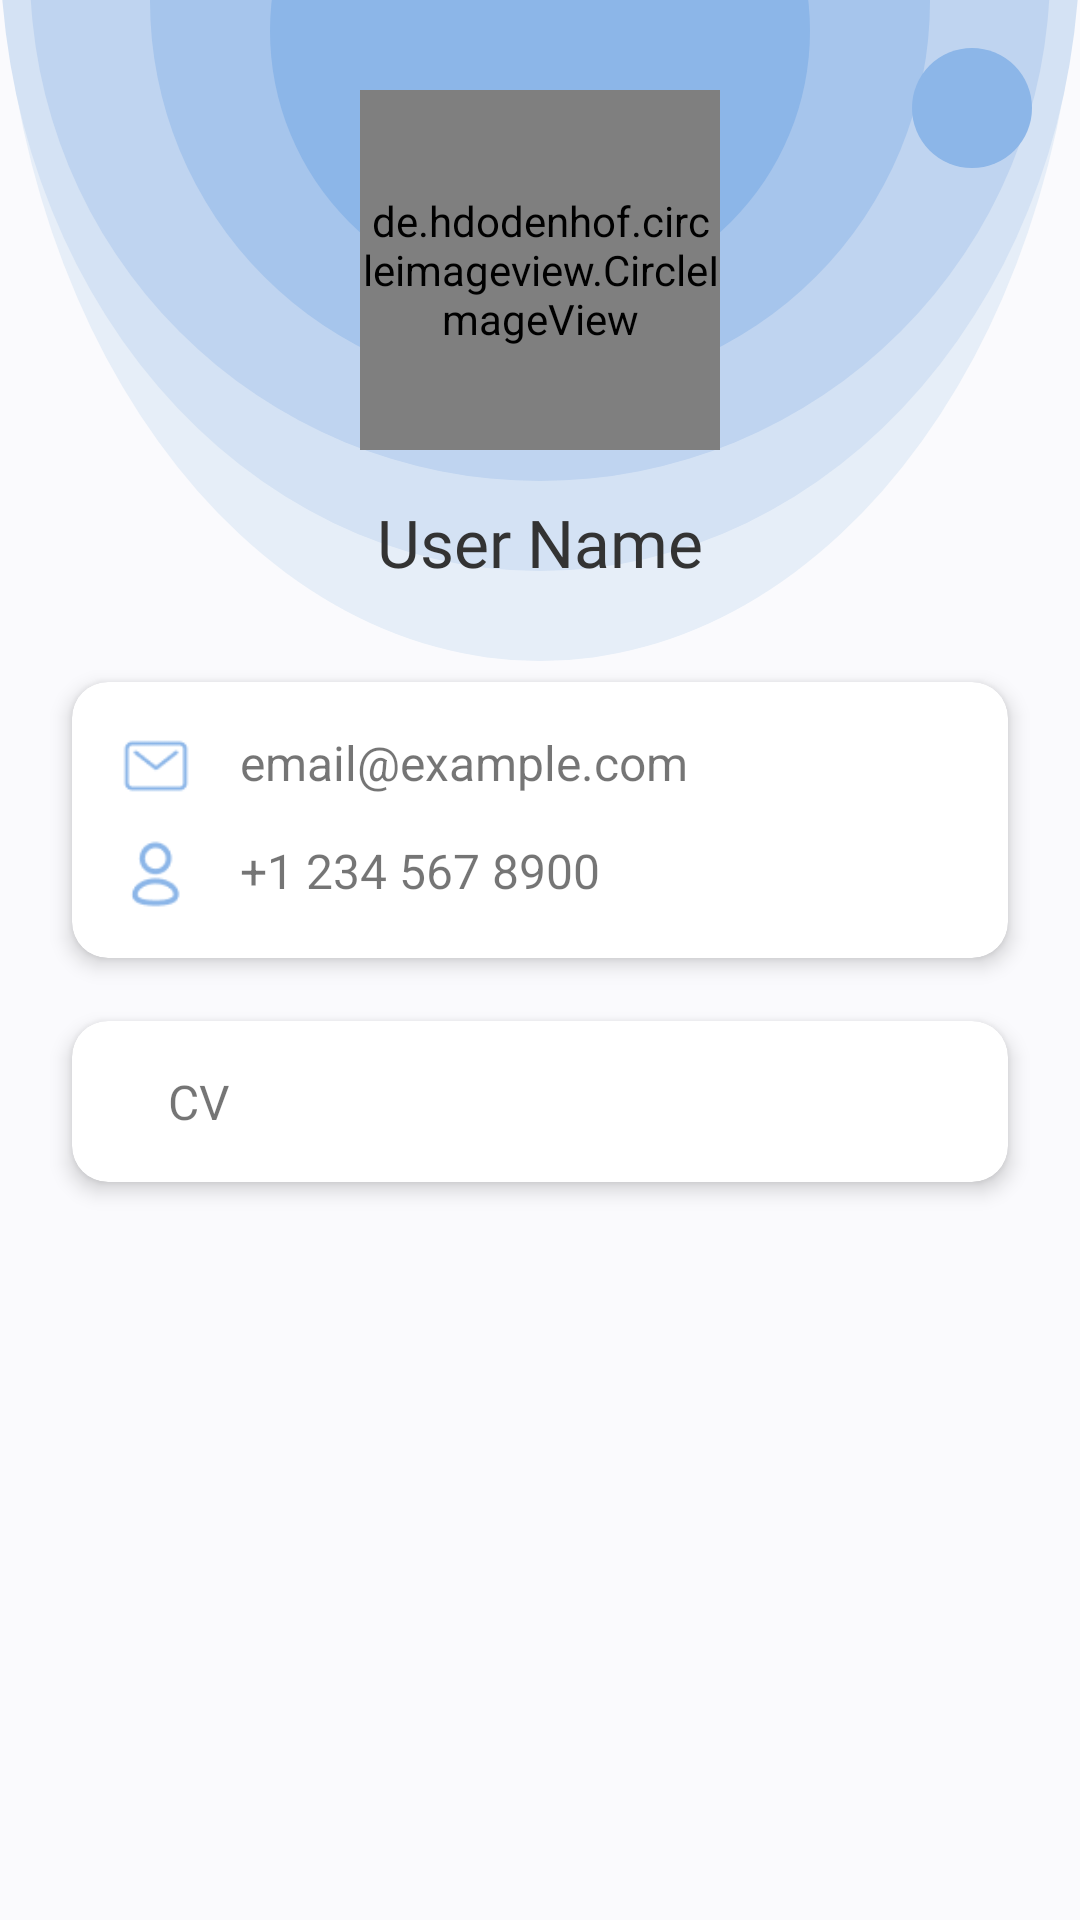

Where to tap for icons on this 1080x1920 app screen, as point (x, y):
profile: point (156, 874)
